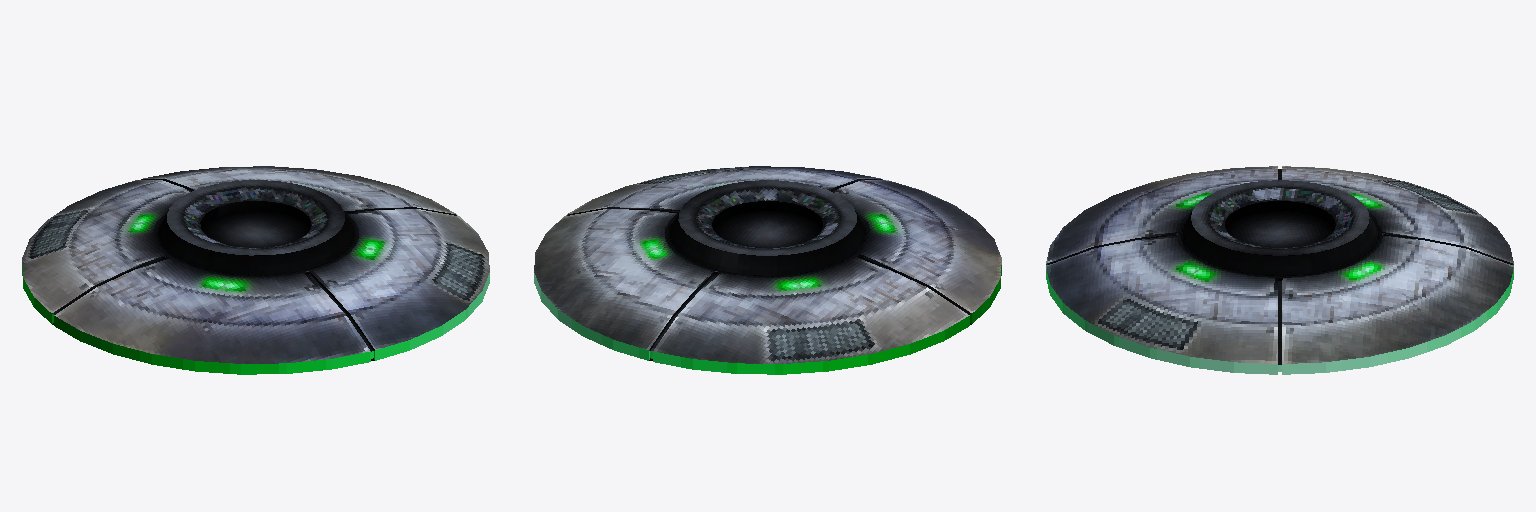
3 views of the same model, side by side, from view 1: azimuth 30°, elevation 25°; view 2: azimuth 150°, elevation 25°; view 3: azimuth 270°, elevation 25° (orthographic).
Visible parts, largest first — view 1: UFO_body; view 2: UFO_body; view 3: UFO_body.
Part boxes in pixels (x1,y1,x2,y2): UFO_body: (22, 166, 489, 374); UFO_body: (534, 166, 1001, 374); UFO_body: (1046, 166, 1513, 374).
Size of the model in its own units: 67.87 by 27.04 by 67.87.
2 materials, 1 textured.